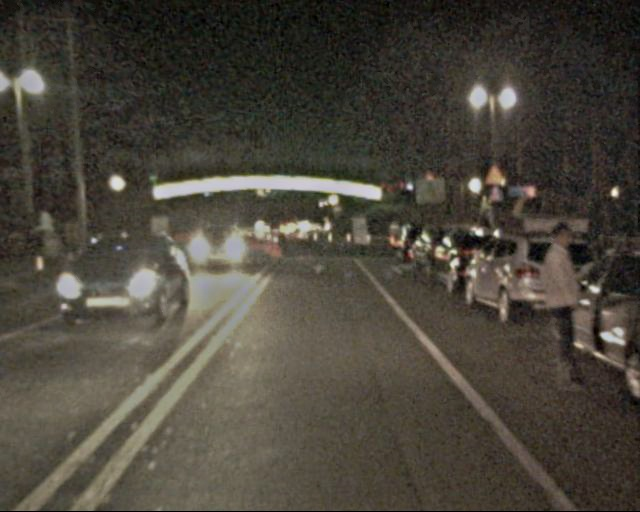person: (521, 224, 599, 387), (386, 219, 402, 257)
